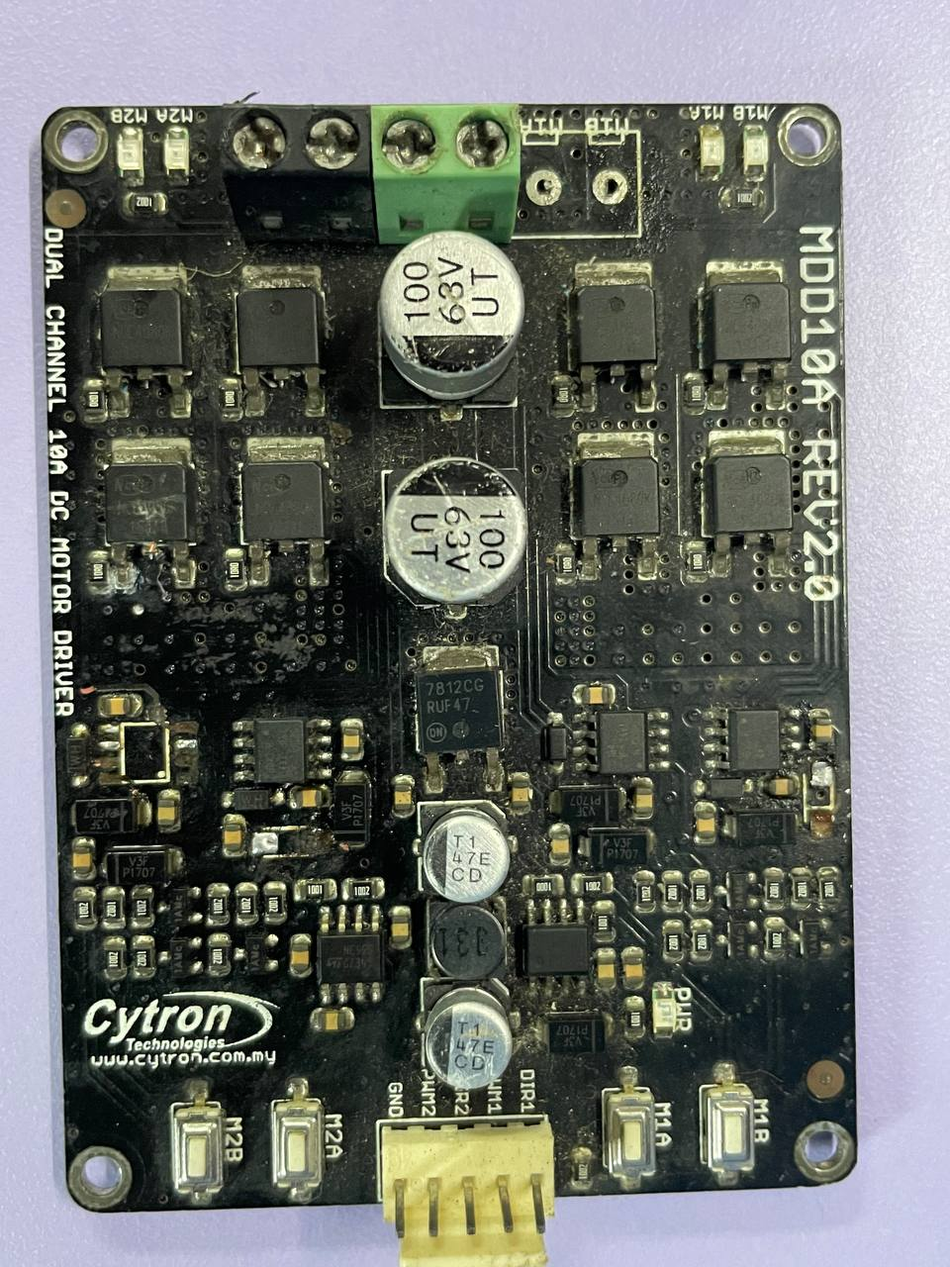broken_comp: (86, 429, 199, 569)
missing_comp: (116, 714, 174, 792), (246, 822, 332, 862), (799, 763, 841, 828)
missing_tb: (508, 110, 659, 250)
